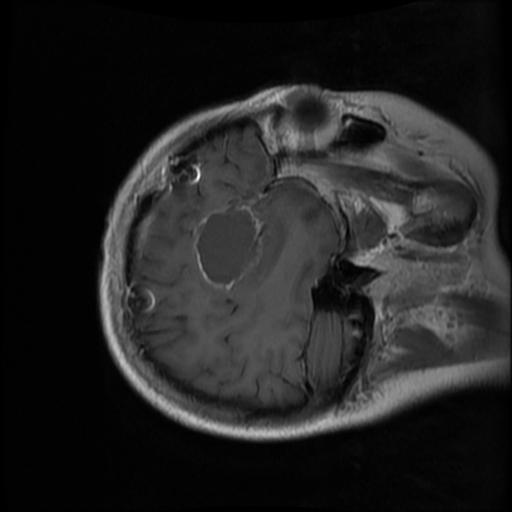glioma: (192, 200, 263, 288)
